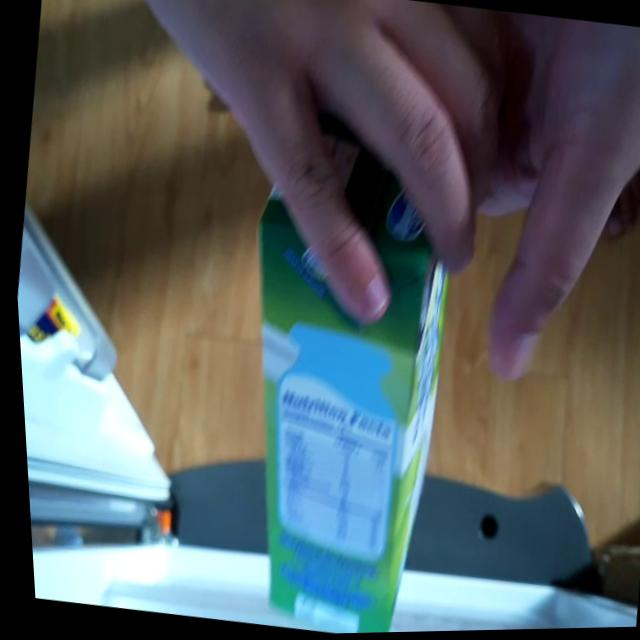milk: (192, 138, 485, 637)
